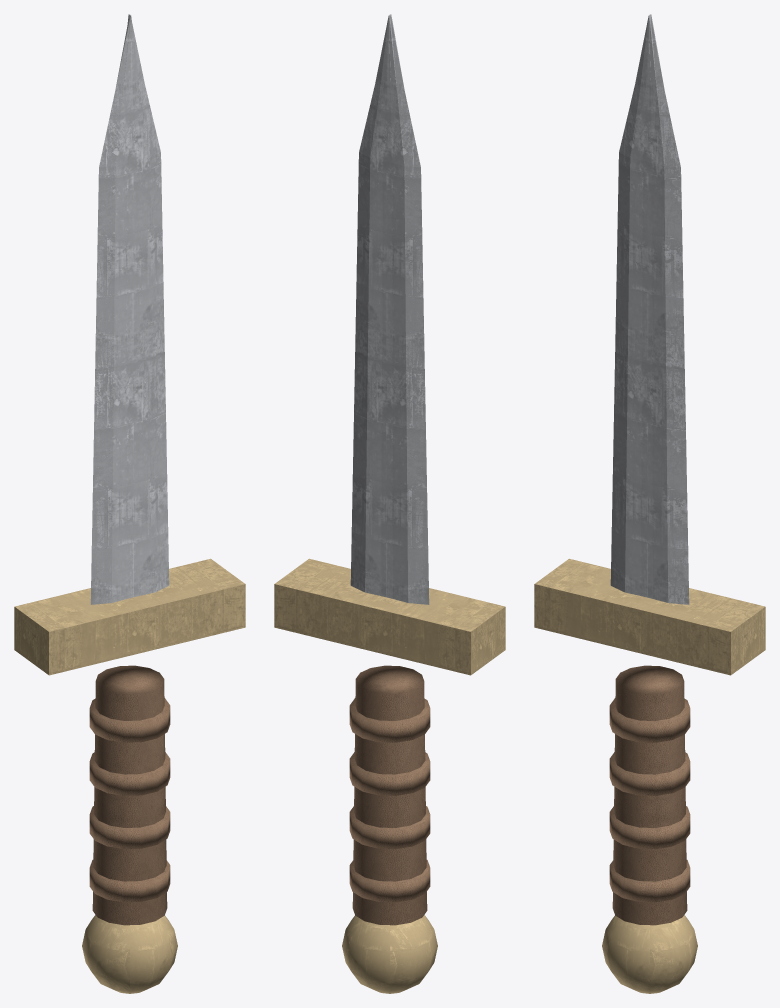
Rendered from knife.glb.
3 renders of one model, left to right at view 1: azimuth 30°, elevation 25°; view 2: azimuth 150°, elevation 25°; view 3: azimuth 330°, elevation 25°, orthographic.
Parts seen in each view (by area): view 1: knife; view 2: knife; view 3: knife.
Boxes of the visible parts, box(x1,y1,x2,y2) form: knife: box(14, 14, 245, 993); knife: box(274, 14, 505, 993); knife: box(534, 14, 765, 993).
Bounding box in the file's own units: 0.2056 × 0.9748 × 0.0871.
3 materials, 3 textured.
